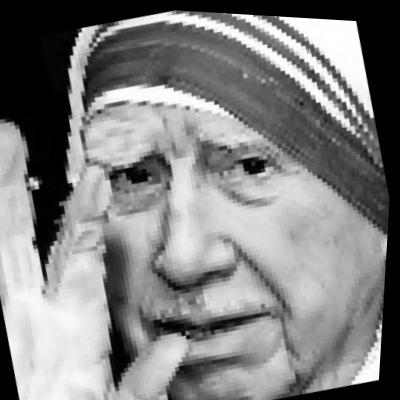sad: (55, 30, 387, 400)
